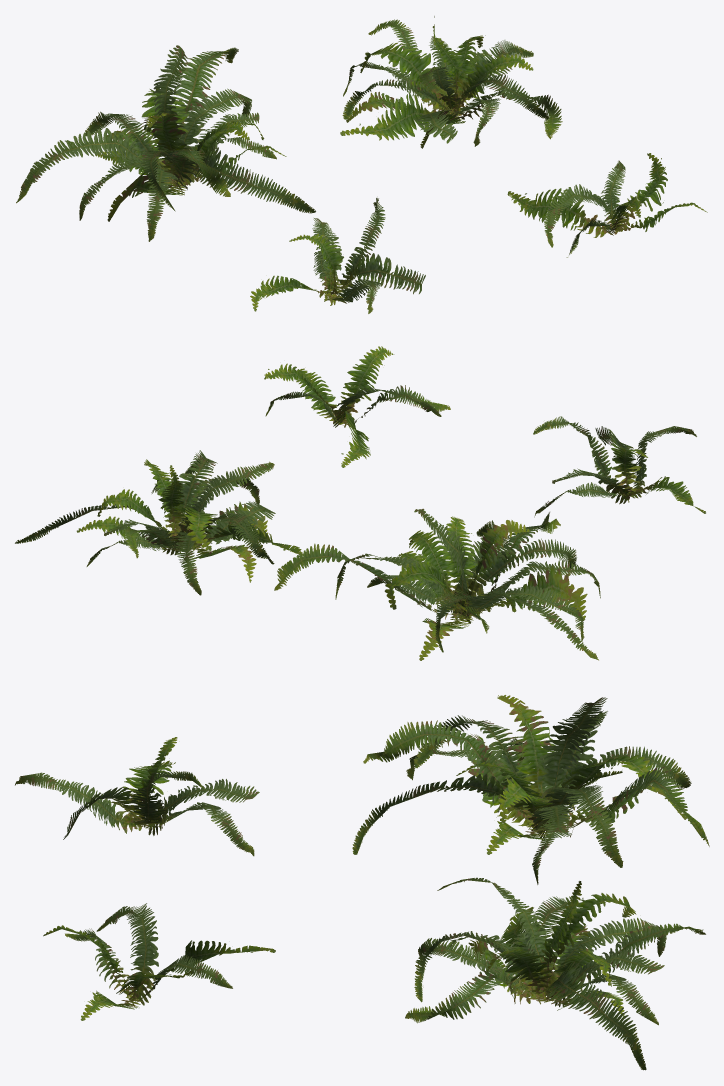
The model's file is fern_02.glb.
The picture shows the model from 3 angles, top to bottom: view 1: azimuth 30°, elevation 25°; view 2: azimuth 150°, elevation 25°; view 3: azimuth 270°, elevation 25°; orthographic projection. The views are drawn at different scales.
Parts seen in each view (by area): view 1: fern_02_b, fern_02_c, fern_02_a, fern_02_d; view 2: fern_02_b, fern_02_c, fern_02_d, fern_02_a; view 3: fern_02_b, fern_02_c, fern_02_a, fern_02_d.
Part boxes in pixels (<box>): fern_02_b: <box>16,45,315,241</box>; fern_02_c: <box>340,16,562,148</box>; fern_02_a: <box>250,198,425,313</box>; fern_02_d: <box>507,153,707,257</box>; fern_02_b: <box>274,508,600,660</box>; fern_02_c: <box>15,450,303,595</box>; fern_02_d: <box>264,346,450,467</box>; fern_02_a: <box>533,416,705,517</box>; fern_02_b: <box>352,695,709,884</box>; fern_02_c: <box>405,877,705,1070</box>; fern_02_a: <box>15,737,259,856</box>; fern_02_d: <box>43,903,275,1020</box>.
Bounding box in the file's own units: 1.97 × 0.4277 × 1.72.
1 material, 1 textured.
